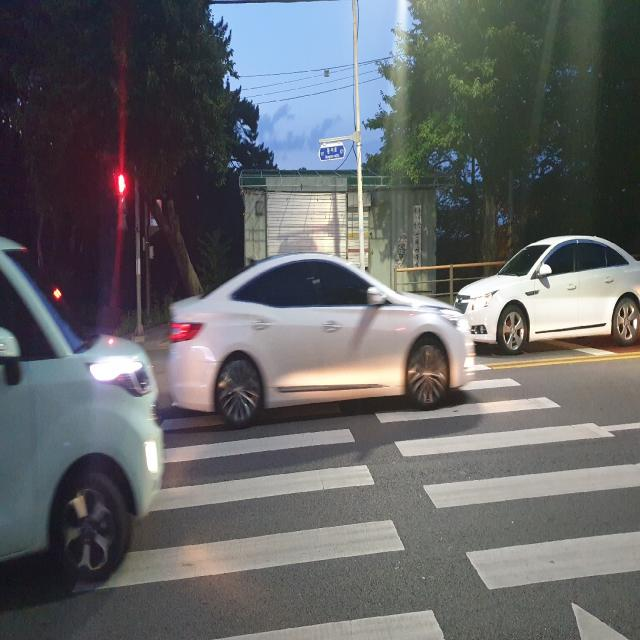빨간불: (110, 168, 130, 237)
횡단보도: (71, 360, 640, 639)
